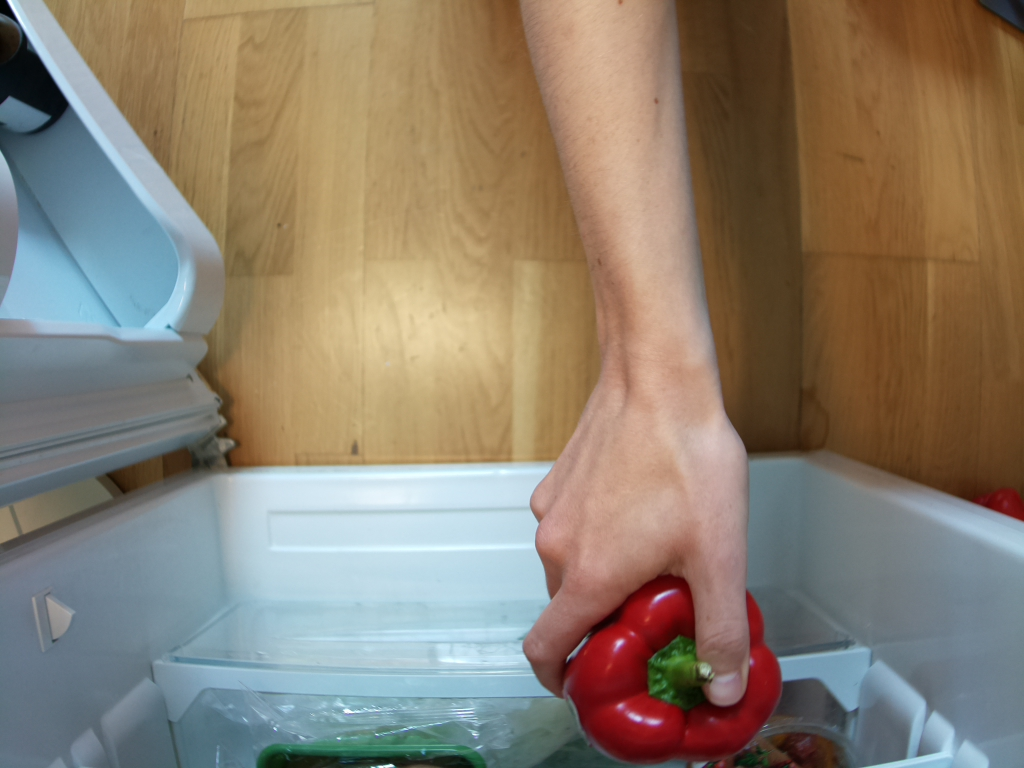pepper: (563, 574, 783, 768)
